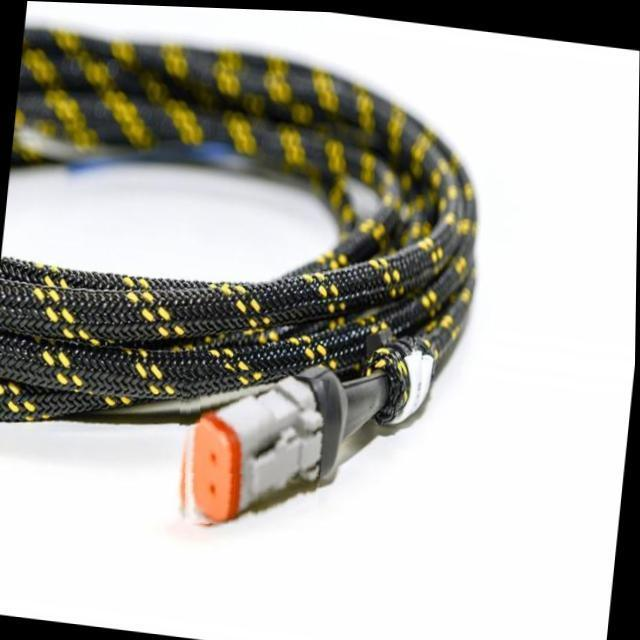connector: (150, 344, 412, 535)
